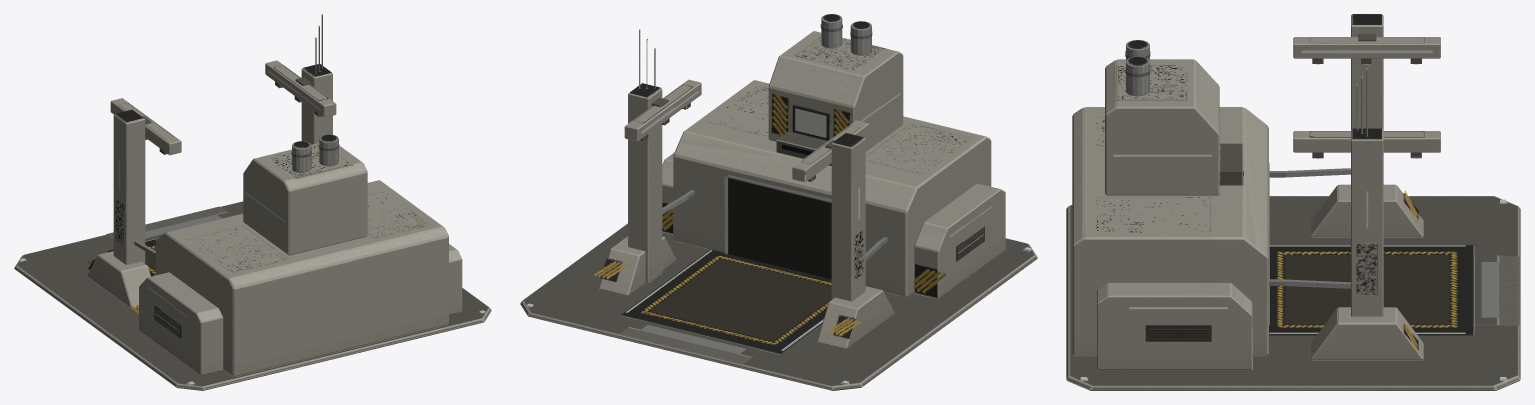
The model's file is ord_gantry.fbx.
3 renders of one model, left to right at view 1: azimuth 30°, elevation 25°; view 2: azimuth 150°, elevation 25°; view 3: azimuth 270°, elevation 25°, orthographic. The views are drawn at different scales.
Parts seen in each view (by area): view 1: base_bar, base_glow_running_bar; view 2: base_bar, base_glow_running_bar, base_glow_power_bar; view 3: base_bar, base_glow_running_bar.
Part boxes in pixels (left/top/right/bottom): base_bar: left=14, top=15, right=491, bottom=390; base_glow_running_bar: left=20, top=14, right=486, bottom=384; base_bar: left=520, top=14, right=1037, bottom=390; base_glow_running_bar: left=526, top=29, right=1031, bottom=384; base_glow_power_bar: left=640, top=106, right=826, bottom=253; base_bar: left=1066, top=14, right=1520, bottom=390; base_glow_running_bar: left=1080, top=50, right=1506, bottom=380.
Size of the model in its own units: 5547 by 4066 by 5547.
2 materials, 2 textured.
